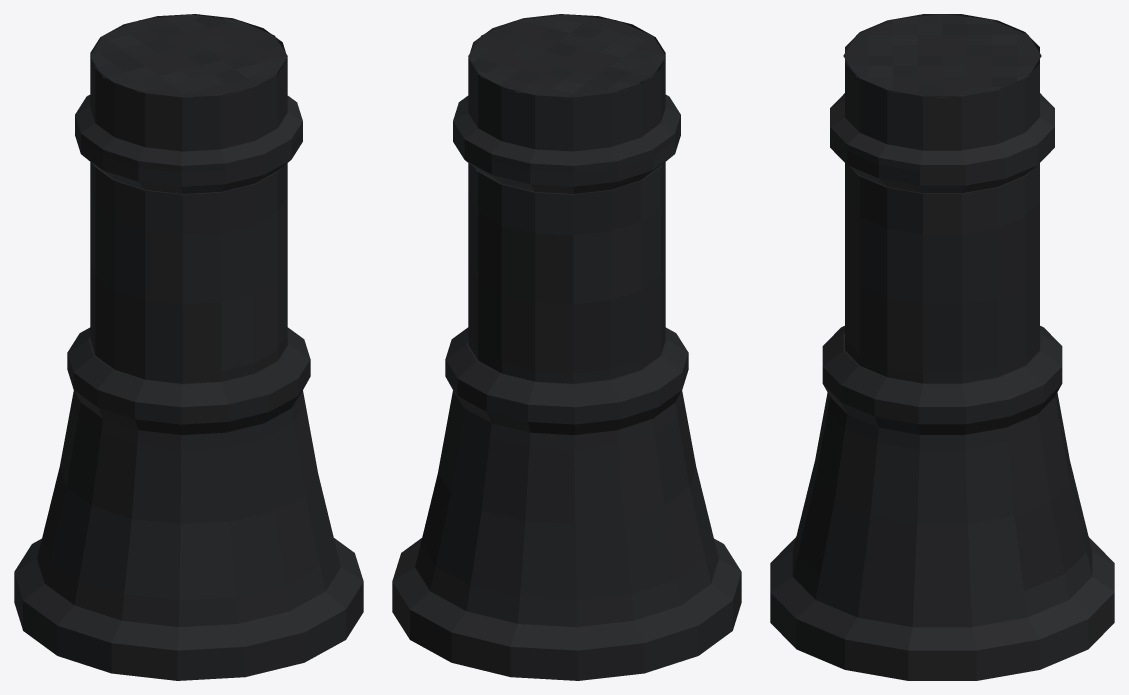
File: decopole_calheights_inv.obj
The picture shows the model from 3 angles, left to right: view 1: azimuth 30°, elevation 25°; view 2: azimuth 150°, elevation 25°; view 3: azimuth 270°, elevation 25°; orthographic projection.
Visible parts, largest first — view 1: decopole_calheights_inv; view 2: decopole_calheights_inv; view 3: decopole_calheights_inv.
Part boxes in pixels (<box>): decopole_calheights_inv: <box>14,14,363,680</box>; decopole_calheights_inv: <box>392,14,741,680</box>; decopole_calheights_inv: <box>770,14,1114,680</box>.
Size of the model in its own units: 0.564 by 1 by 0.564.
